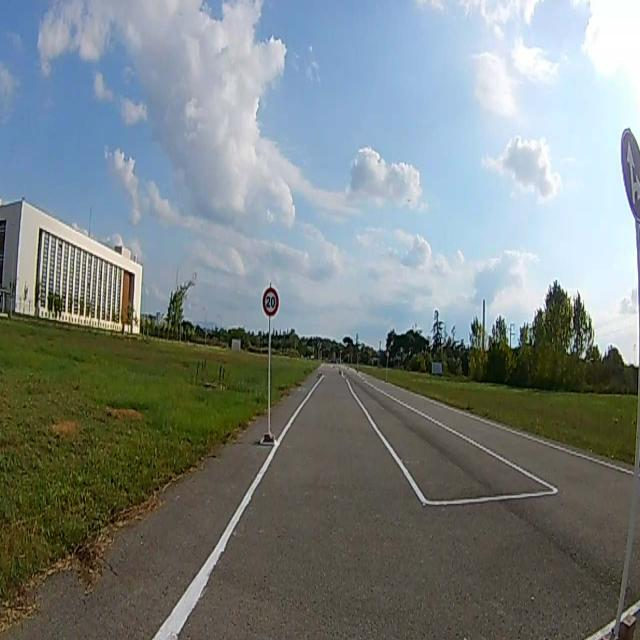20: (262, 286, 277, 314)
ilerisag: (618, 128, 640, 218)
